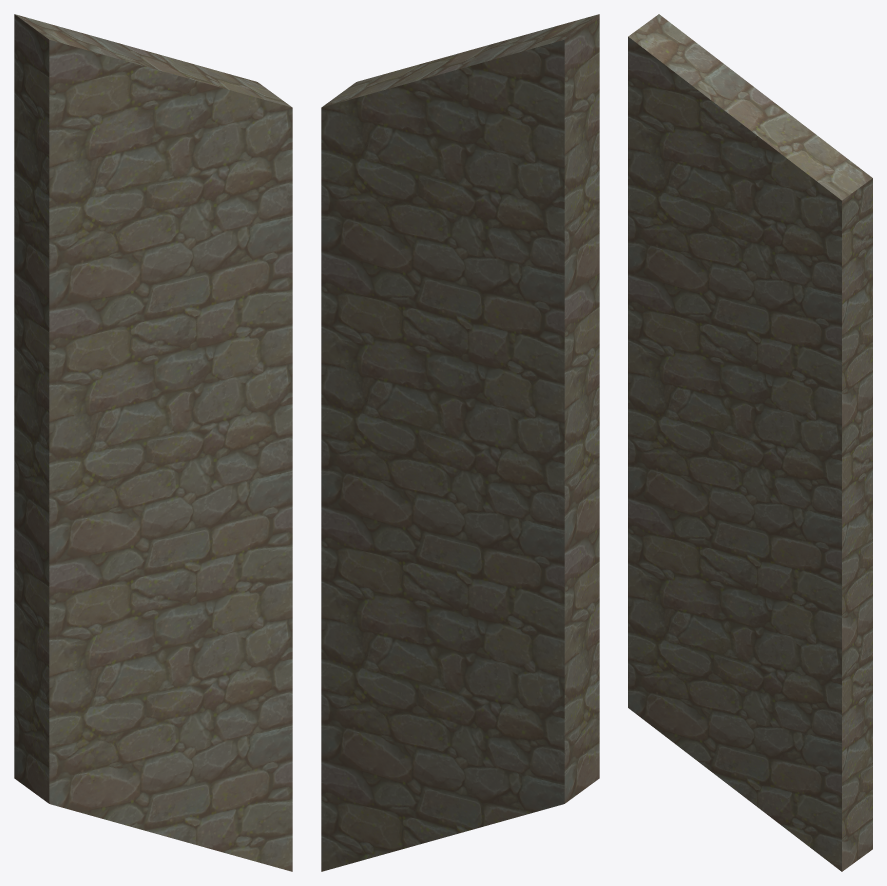
The model's file is SM_FW01_Ruins_Int_Wall_Stairs_2x6_01.fbx.
3 renders of one model, left to right at view 1: azimuth 30°, elevation 25°; view 2: azimuth 150°, elevation 25°; view 3: azimuth 330°, elevation 25°, orthographic. The views are drawn at different scales.
Visible parts, largest first — view 1: SM_FW01_Ruins_Int_Wall_Stairs_2x6_01; view 2: SM_FW01_Ruins_Int_Wall_Stairs_2x6_01; view 3: SM_FW01_Ruins_Int_Wall_Stairs_2x6_01.
Part boxes in pixels (x1,y1,x2,y2): SM_FW01_Ruins_Int_Wall_Stairs_2x6_01: (14,14,292,871); SM_FW01_Ruins_Int_Wall_Stairs_2x6_01: (321,14,599,871); SM_FW01_Ruins_Int_Wall_Stairs_2x6_01: (628,14,872,871).
Bounding box in the file's own units: 2 × 7 × 0.5004.
